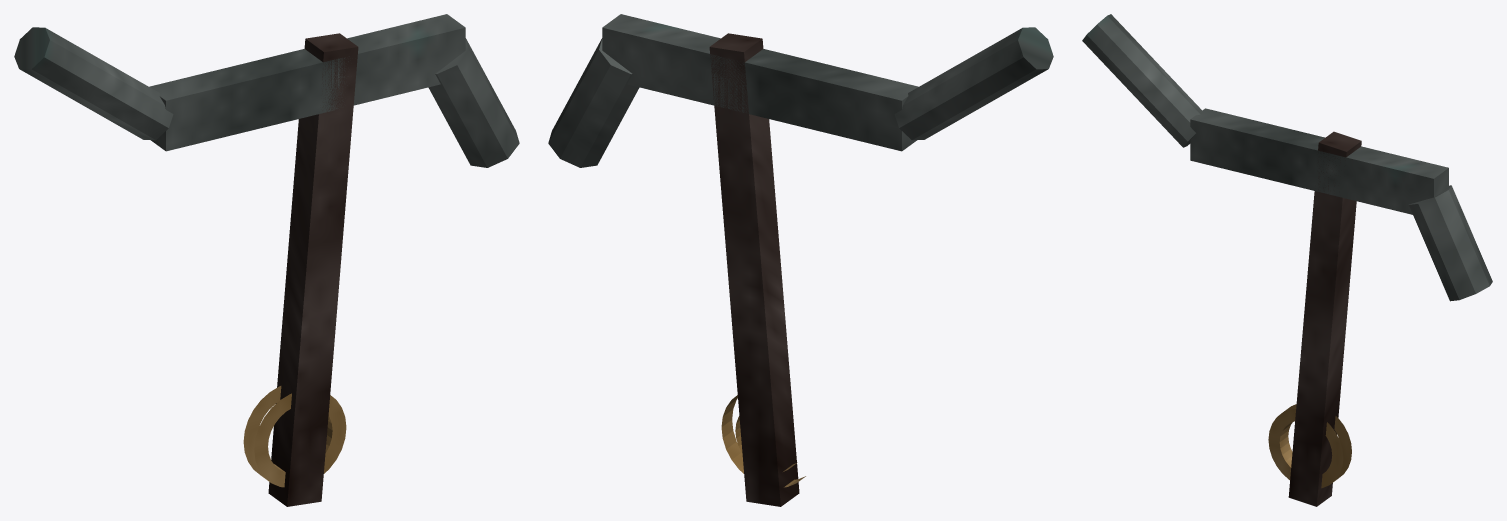
The model's file is 0889_climbing_axe_14.glb.
3 views of the same model, side by side, from view 1: azimuth 30°, elevation 25°; view 2: azimuth 150°, elevation 25°; view 3: azimuth 330°, elevation 25° (orthographic). The views are drawn at different scales.
Visible parts, largest first — view 1: iron, wood_dark, brass; view 2: iron, wood_dark, brass; view 3: iron, wood_dark, brass.
Part boxes in pixels (box(x1,y1,x2,y2)): iron: box(14, 14, 519, 167); wood_dark: box(268, 33, 358, 506); brass: box(243, 386, 346, 487); iron: box(548, 14, 1053, 167); wood_dark: box(709, 33, 799, 506); brass: box(721, 395, 805, 487); iron: box(1082, 14, 1492, 301); wood_dark: box(1288, 131, 1361, 506); brass: box(1268, 404, 1351, 488).
Size of the model in its own units: 1.08 by 1.1 by 0.11.
3 materials, 3 textured.
